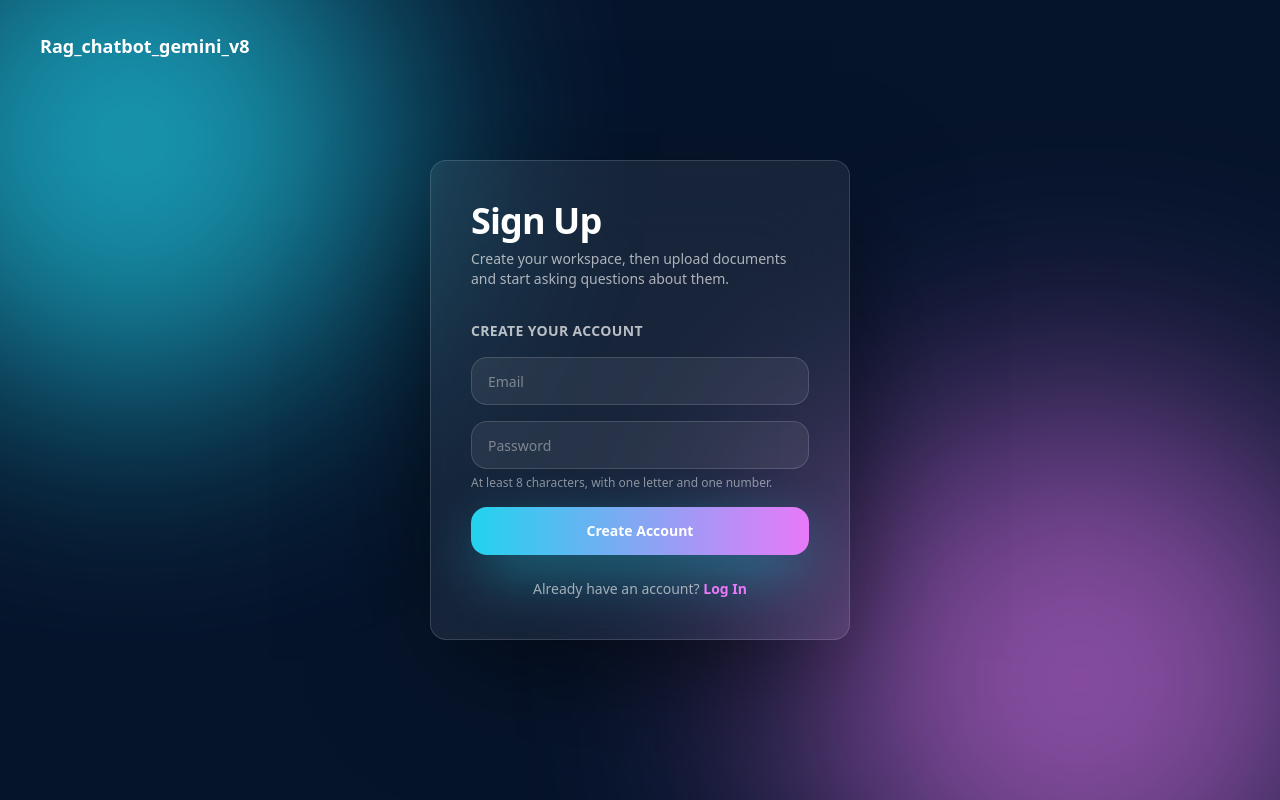
Test: Signup › [AC-003] a password failing complexity shows the server's explanation and creates no account
In the field labelled "Email": x=640, y=381 [471, 357, 809, 405], type "weak@site.com"
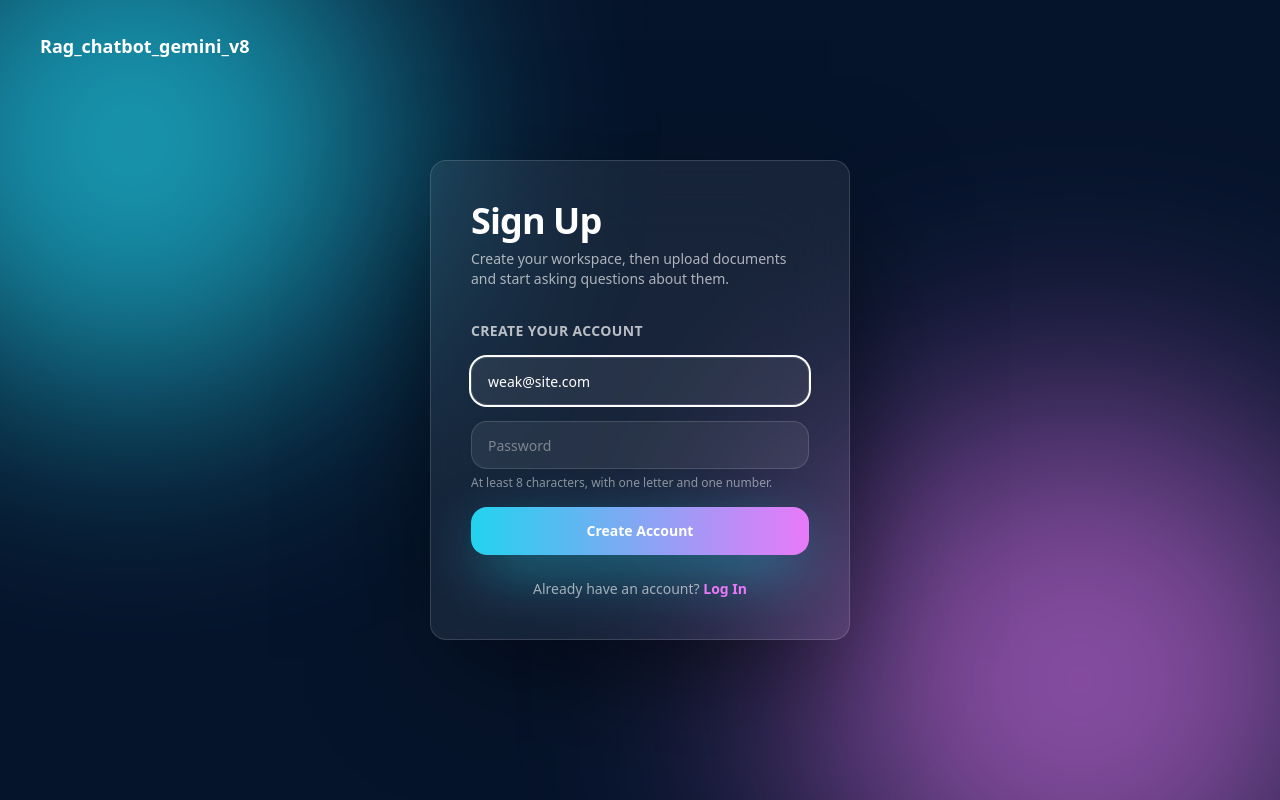
In the password field labelled "Password": x=640, y=445 [471, 421, 809, 469], type "weak"
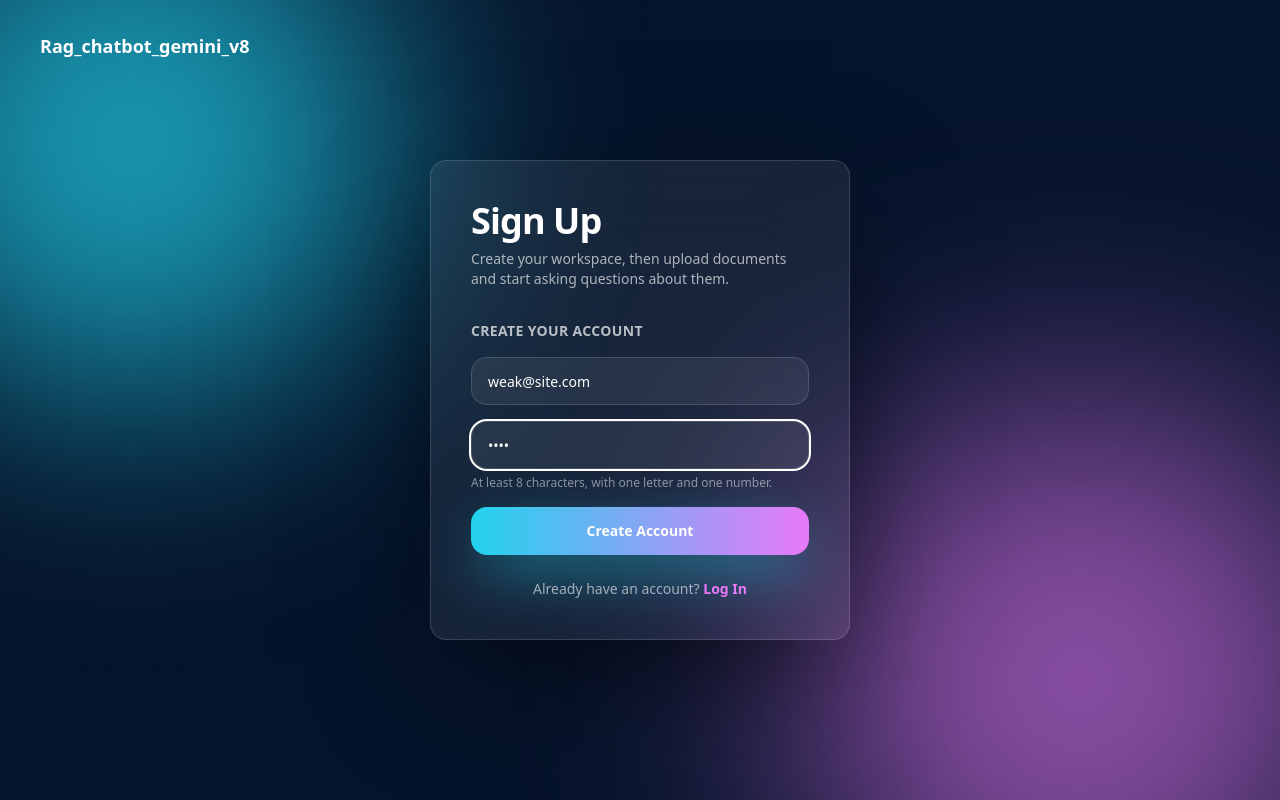
Click the button "Create Account": x=640, y=531 [471, 507, 809, 555]
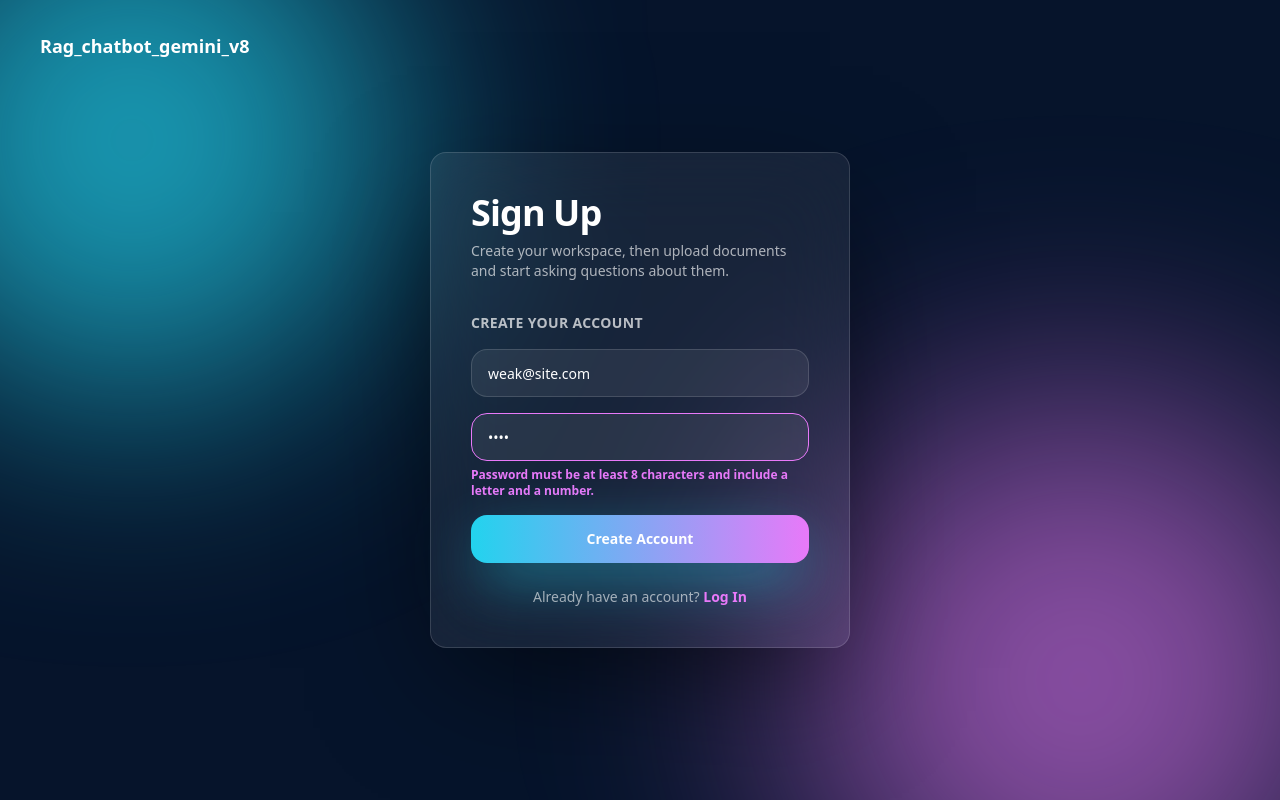
Expected: the text "Password must be at least 8 characters and include a letter and a number." is shown, [471, 467, 809, 499]
